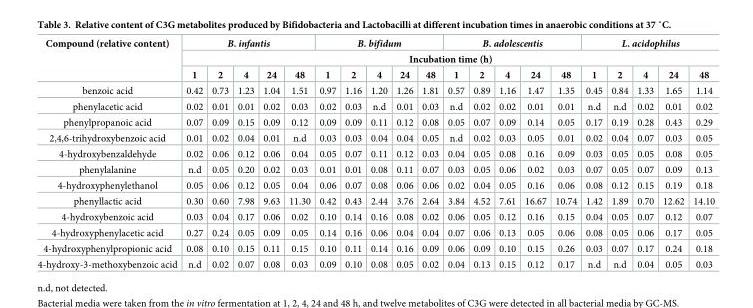table: (36, 36, 714, 269)
table column: (36, 36, 181, 269), (283, 36, 314, 269), (519, 36, 550, 269), (657, 36, 688, 269), (550, 36, 580, 269), (206, 36, 232, 269), (232, 36, 258, 269), (339, 36, 365, 269), (365, 36, 391, 269), (416, 36, 442, 269), (442, 36, 468, 269), (493, 36, 519, 269), (580, 36, 606, 269), (631, 36, 657, 269), (688, 36, 714, 269), (181, 36, 206, 269), (258, 36, 283, 269), (314, 36, 339, 269), (391, 36, 416, 269), (468, 36, 493, 269), (606, 36, 631, 269)
table column header: (36, 36, 714, 82)
table row: (36, 66, 714, 82), (36, 82, 714, 98), (36, 98, 714, 114), (36, 114, 714, 130), (36, 145, 714, 161), (36, 161, 714, 177), (36, 177, 714, 193), (36, 208, 714, 224), (36, 224, 714, 240), (36, 240, 714, 256), (36, 36, 714, 51), (36, 51, 714, 66), (36, 130, 714, 145), (36, 193, 714, 208), (36, 256, 714, 269)
table spanning cell: (181, 51, 714, 66), (36, 36, 181, 82), (442, 36, 580, 51), (580, 36, 714, 51), (181, 36, 314, 51), (314, 36, 442, 51)
